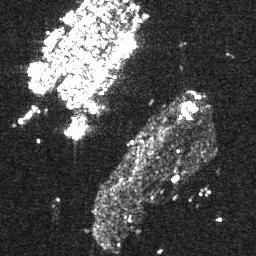ship: (16, 106, 39, 125), (71, 122, 90, 144), (42, 27, 63, 46), (57, 9, 73, 23), (75, 1, 92, 13)
